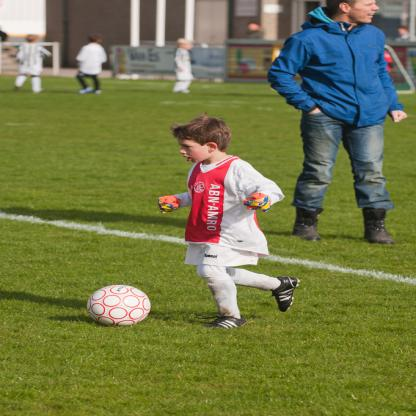Ball: (87, 285, 150, 326)
